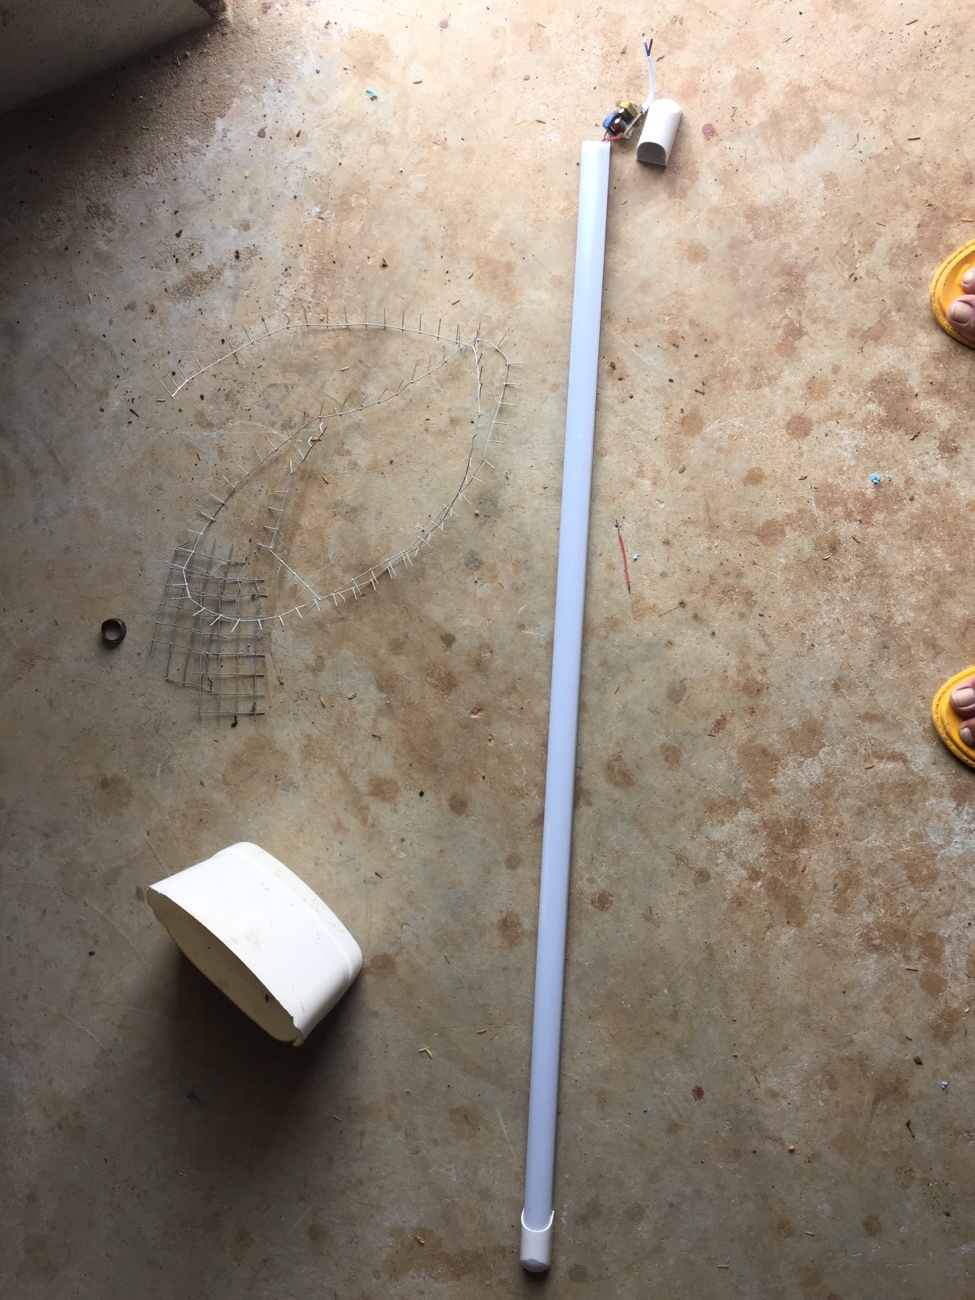Light_bulb: (514, 91, 682, 1283)
